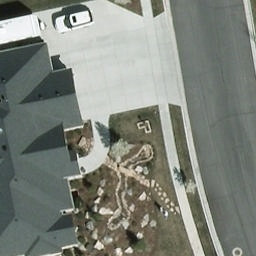camping car: (0, 13, 52, 50)
car: (53, 9, 97, 34)
